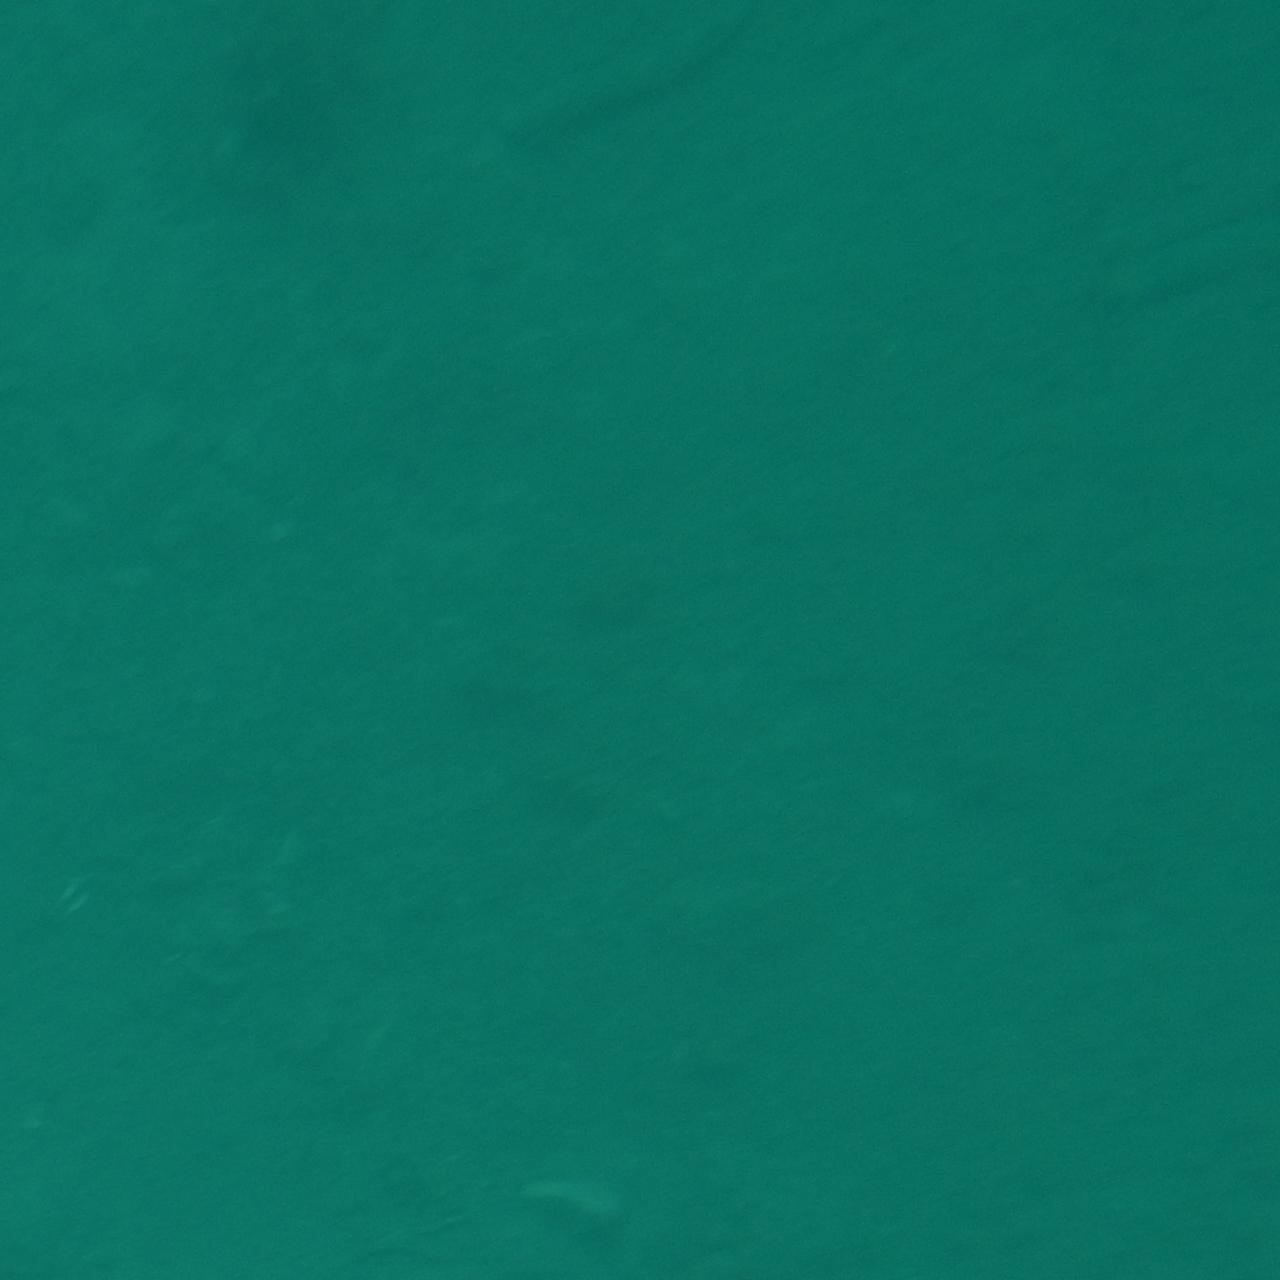Holothuria tubulosa: (478, 0, 785, 169), (1081, 202, 1279, 327)
